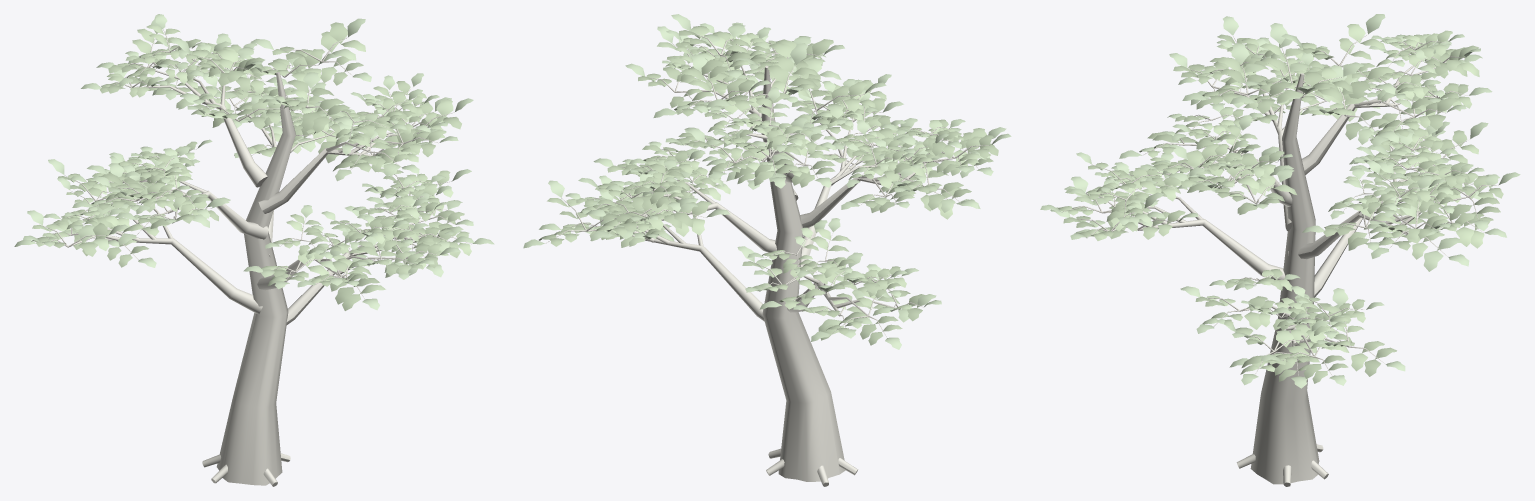
Rendered from SM_WLA_OakYoung_A.fbx.
The picture shows the model from 3 angles, left to right: view 1: azimuth 30°, elevation 25°; view 2: azimuth 150°, elevation 25°; view 3: azimuth 270°, elevation 25°; orthographic projection. The views are drawn at different scales.
Parts seen in each view (by area): view 1: SM_WLA_OakYoung_A; view 2: SM_WLA_OakYoung_A; view 3: SM_WLA_OakYoung_A.
Boxes of the visible parts, <box> form: SM_WLA_OakYoung_A: <box>14,14,494,486</box>; SM_WLA_OakYoung_A: <box>523,14,1011,486</box>; SM_WLA_OakYoung_A: <box>1040,14,1520,486</box>.
Size of what is drawn, in the model's own units: 4.73 by 5.04 by 4.86.
